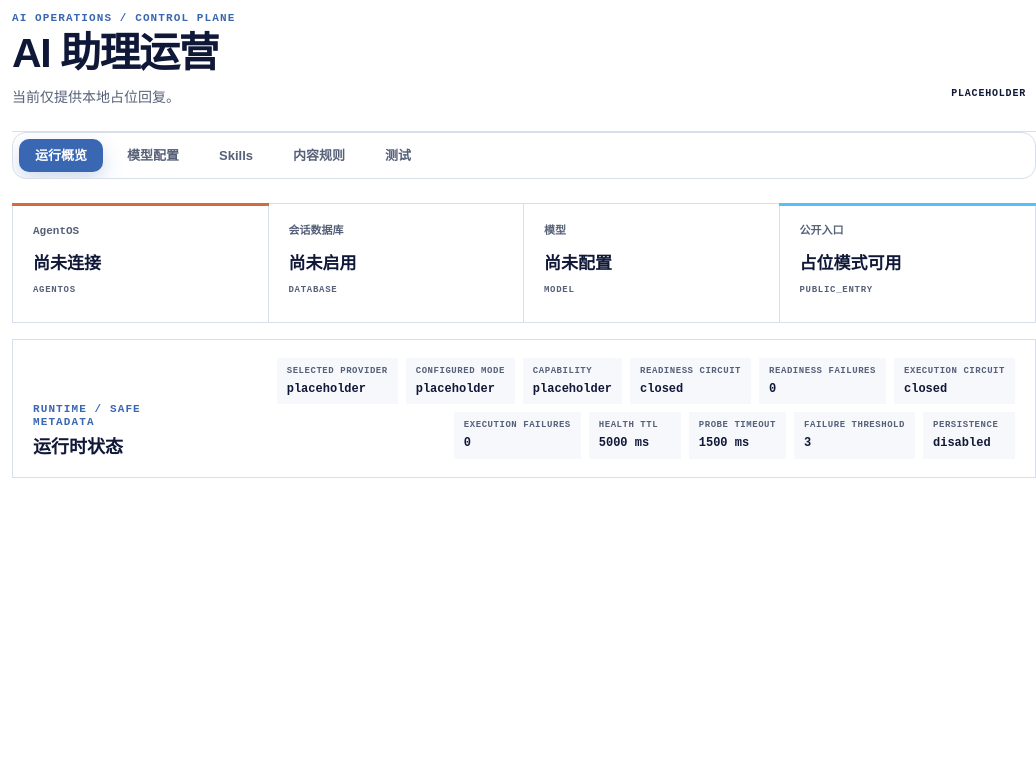
Scenario: AdminAssistantPage › requires the exact assistant permission before loading protected data
Expected: the heading "AI 助理运营" is shown, [12,33,235,74]
Click the tab "Skills" at (236,156), box [203,139,269,172]
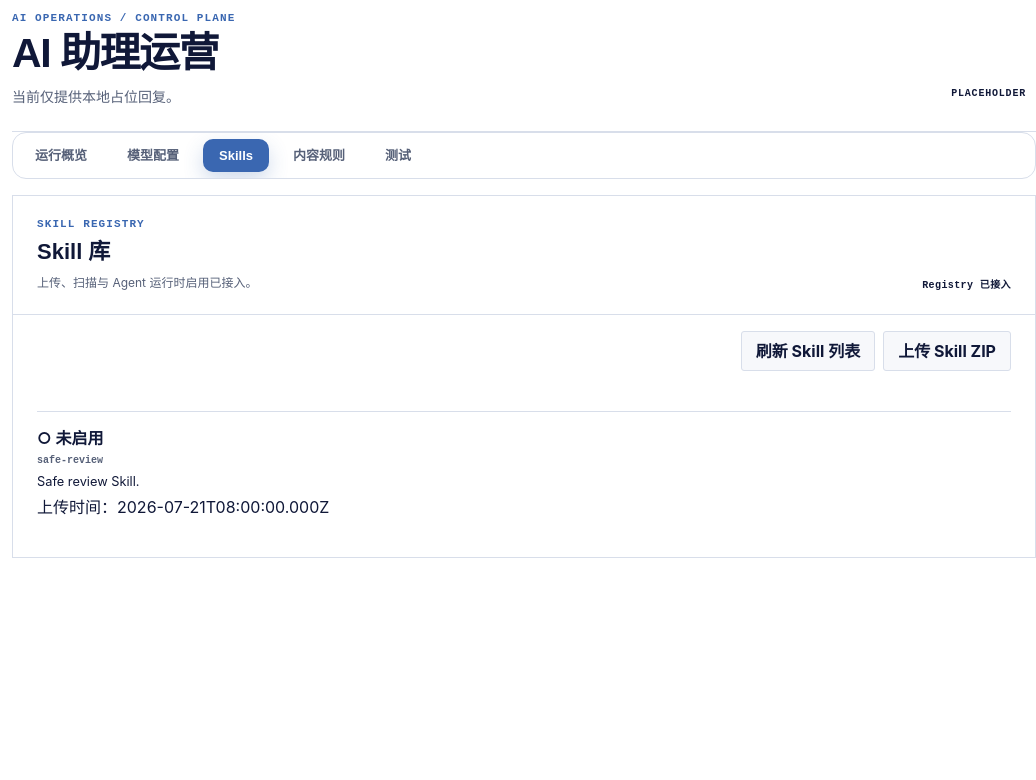
Now the text "safe-review" is shown, box [37,455,103,466]
Click the tab "内容规则" at (319,156), box [277,139,361,172]
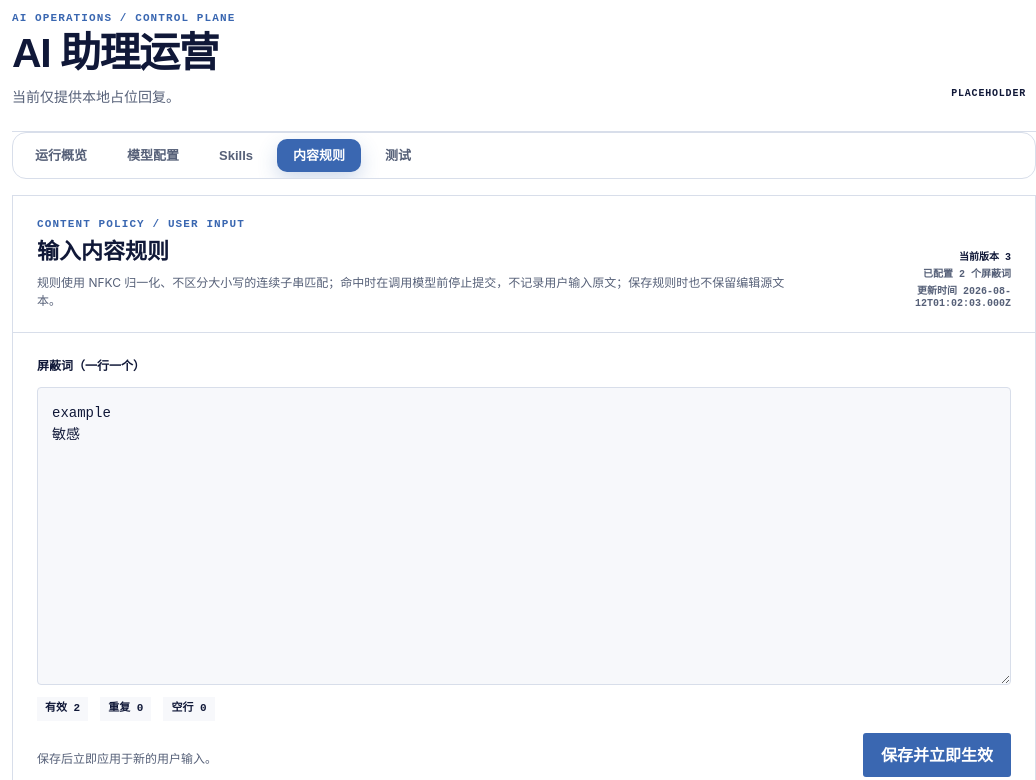
Click the tab "测试" at (398,156), box [369,139,427,172]
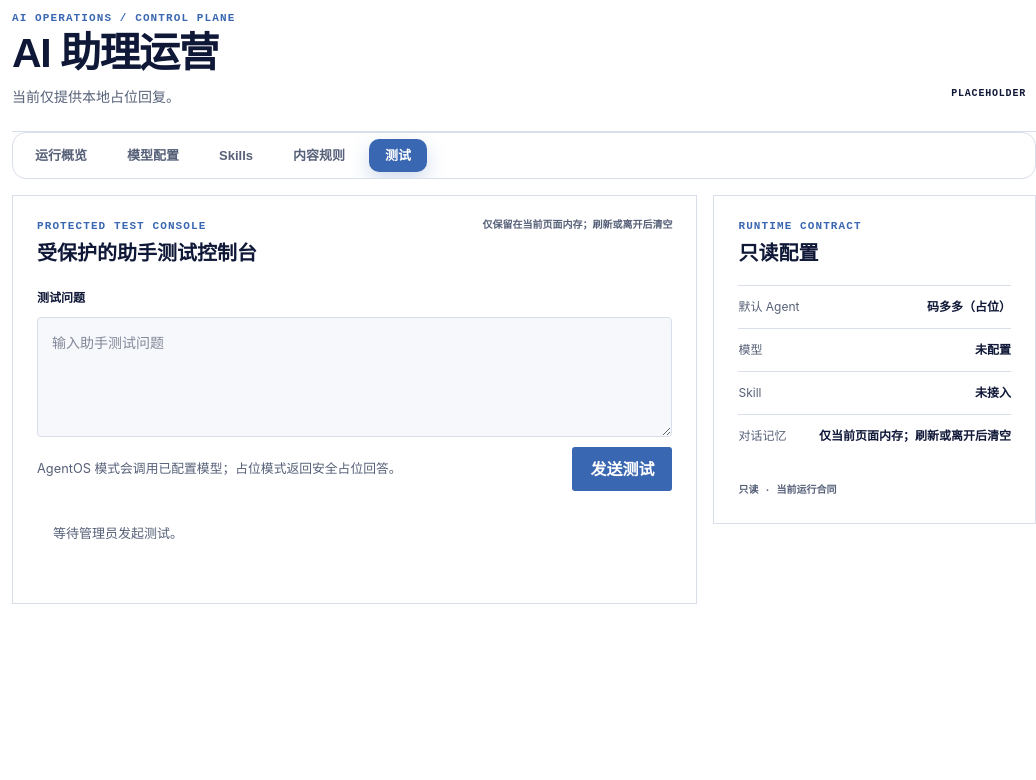
Now the heading "受保护的助手测试控制台" is shown, box [37,241,257,265]
